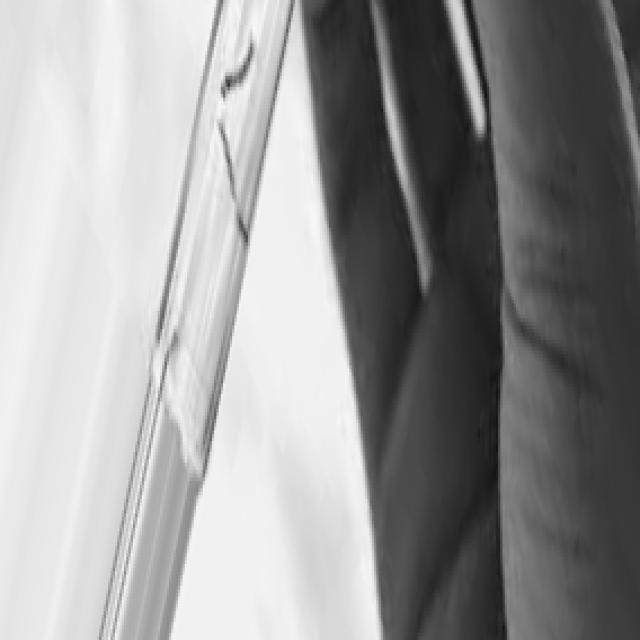larvas: (215, 118, 247, 240), (218, 46, 254, 99)
